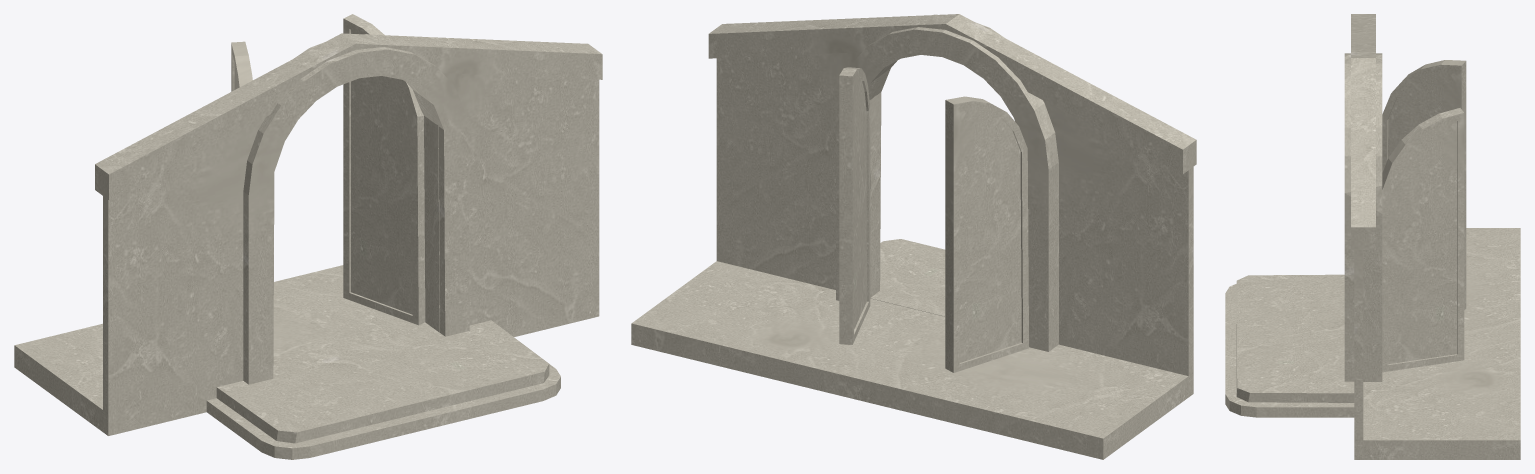
Rendered from AlabasterFloorTileLarge.glb.
The picture shows the model from 3 angles, left to right: view 1: azimuth 30°, elevation 25°; view 2: azimuth 150°, elevation 25°; view 3: azimuth 270°, elevation 25°; orthographic projection. The views are drawn at different scales.
Parts seen in each view (by area): view 1: AlabasterLargeDoorway.001; view 2: AlabasterLargeDoorway.001; view 3: AlabasterLargeDoorway.001.
Part boxes in pixels (bbox=[...]): AlabasterLargeDoorway.001: bbox=[14, 14, 602, 459]; AlabasterLargeDoorway.001: bbox=[631, 14, 1196, 459]; AlabasterLargeDoorway.001: bbox=[1225, 14, 1520, 459].
Size of what is drawn, in the model's own units: 5.74 by 3.71 by 3.36.
Materials: 1 (1 with a texture image).
